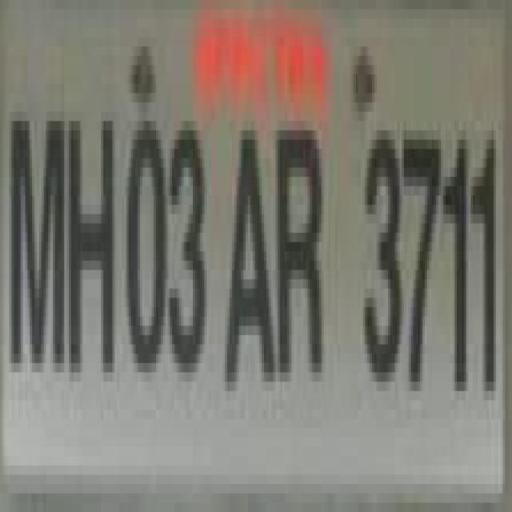number plate: (0, 9, 489, 502)
